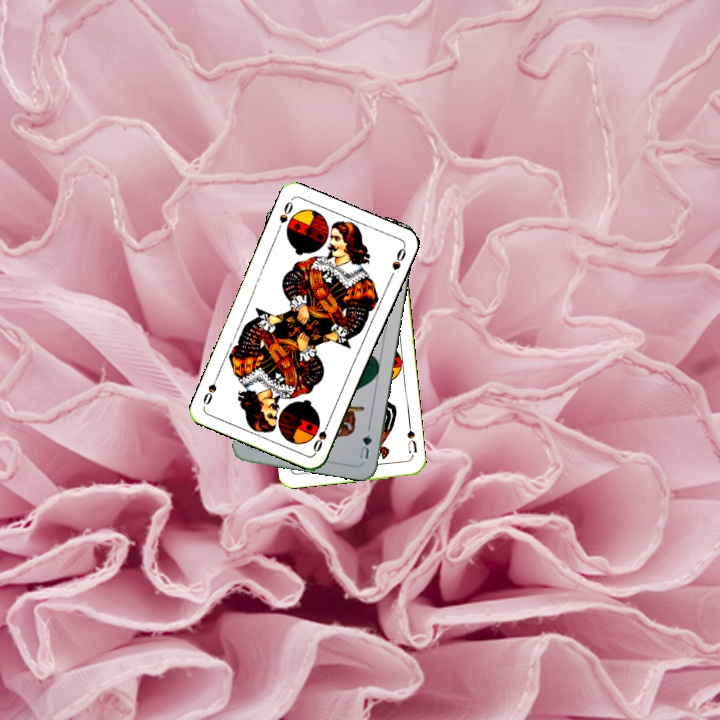GU: (355, 430, 374, 462)
SO: (309, 417, 332, 455), (273, 197, 296, 235)
SU: (403, 419, 420, 460)
